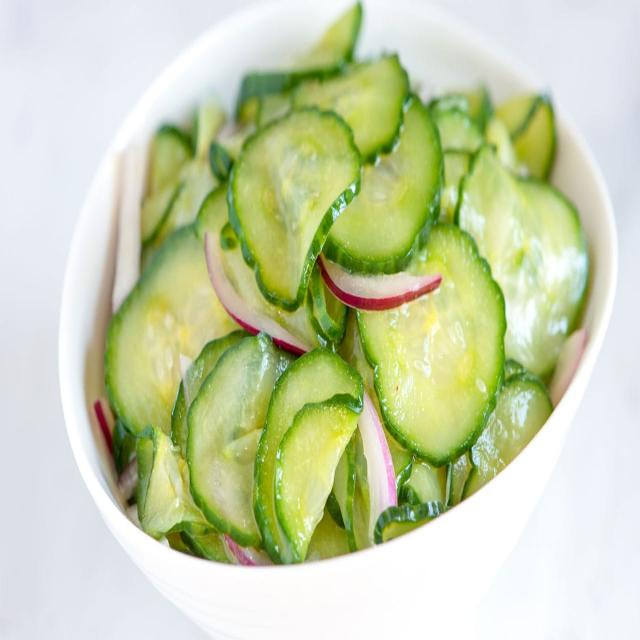Pickle: (358, 224, 506, 467), (455, 144, 589, 377), (106, 227, 238, 436), (228, 107, 360, 311), (186, 333, 290, 548), (254, 349, 364, 552), (324, 96, 444, 272), (274, 400, 358, 562), (292, 56, 409, 162)
